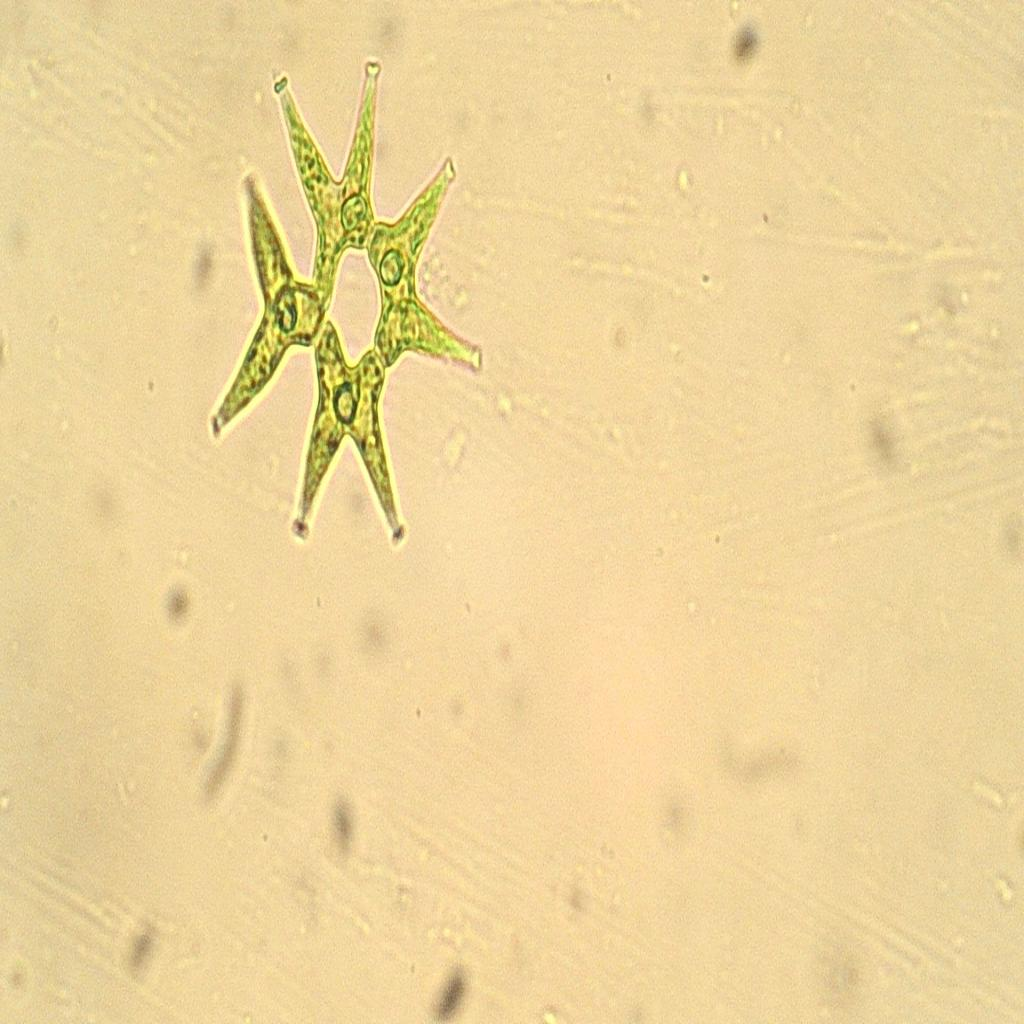Pediastrum_CT: (203, 48, 492, 572)
